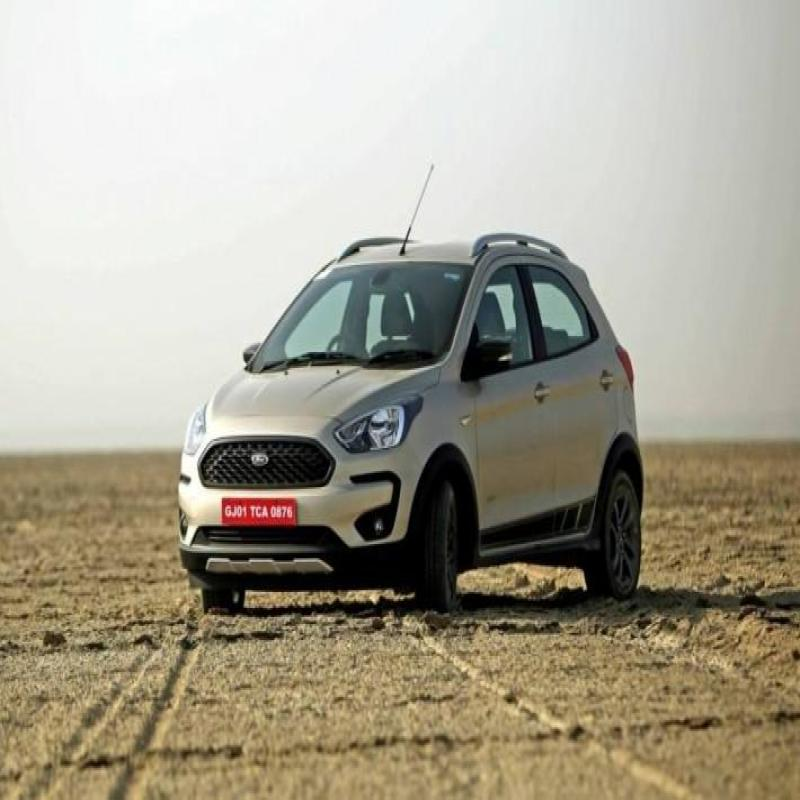car: (171, 214, 663, 602)
